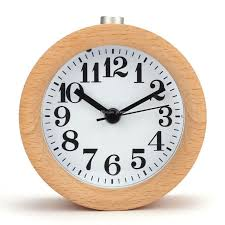alarm_clock: (16, 11, 206, 212), (26, 11, 206, 212)
